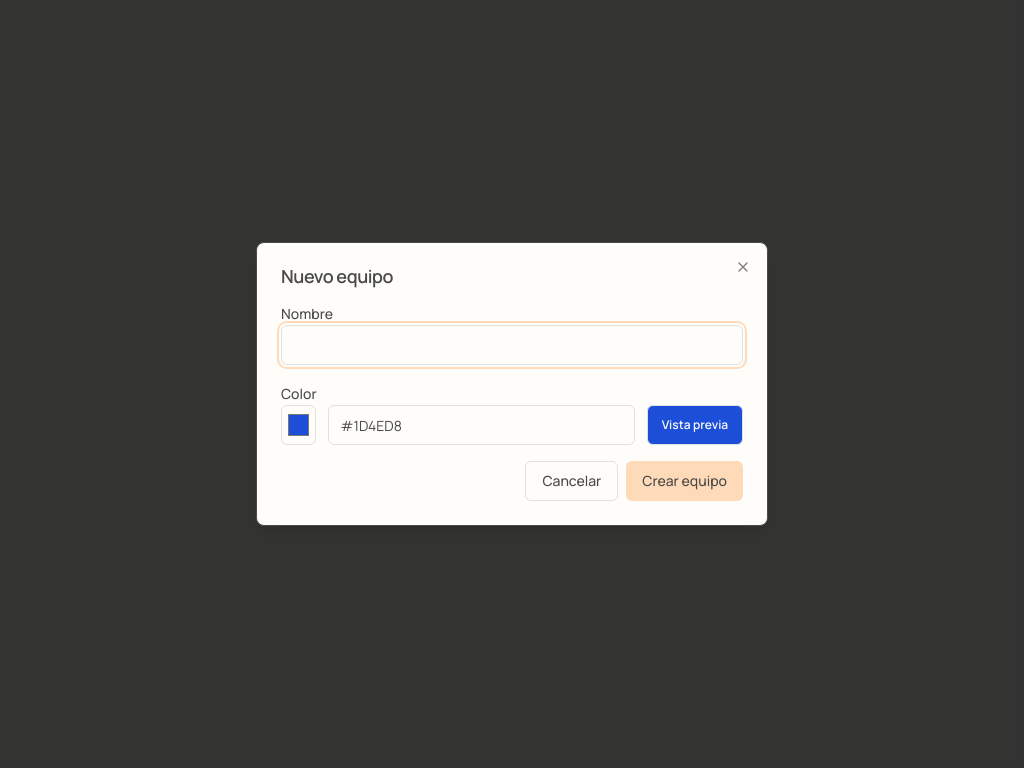
Test: TeamFormDialog › shows validation errors for invalid values
The width and height of the screenshot is (1024, 768).
Step 1. Type "A" into the field labelled "Nombre" → (512, 345), box [281,325,743,365]
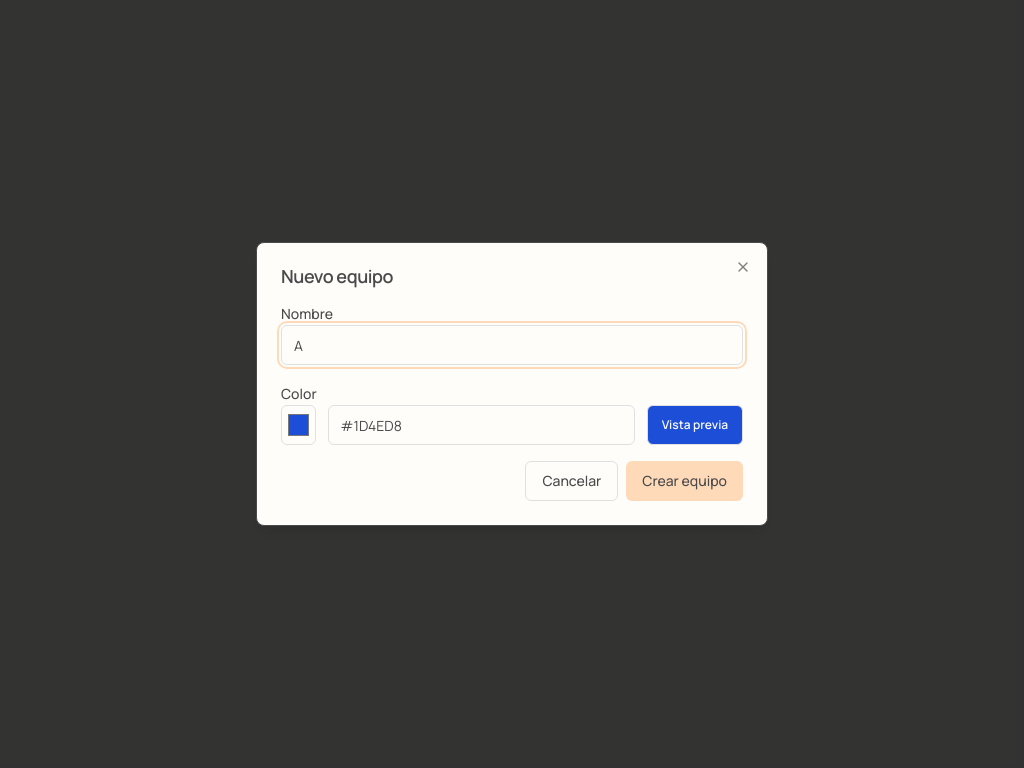
Step 2. Replace the text in the field named "Color (HEX)" with "#12" → (481, 425), box [328,405,635,445]
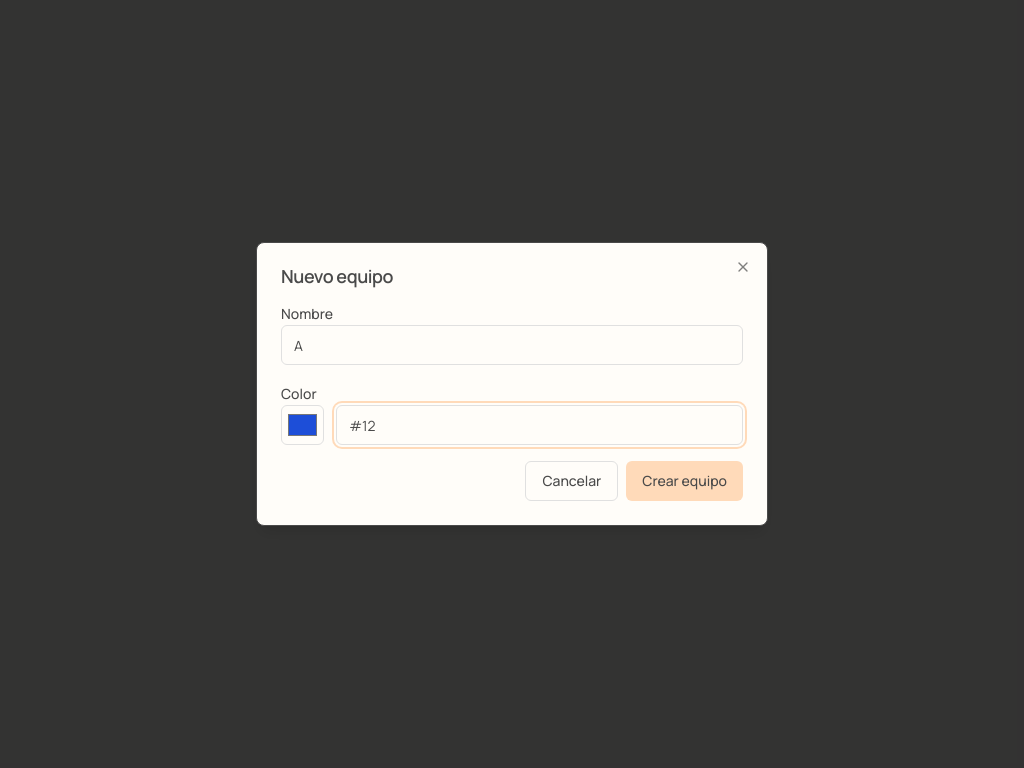
Step 3. Click the button "Crear equipo" → (685, 481), box [626,461,743,501]
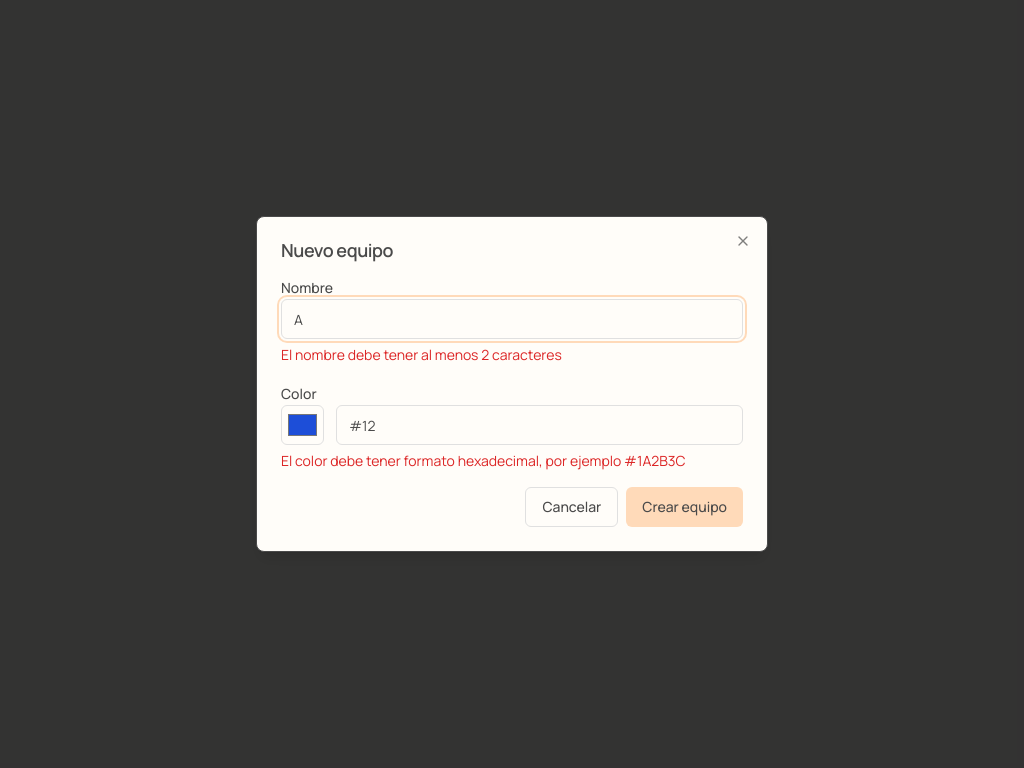
Now the text "El nombre debe tener al menos 2 caracteres" is shown, box [281,345,562,364]
Now the text "El color debe tener formato hexadecimal, por ejemplo #1A2B3C" is shown, box [281,451,743,471]
